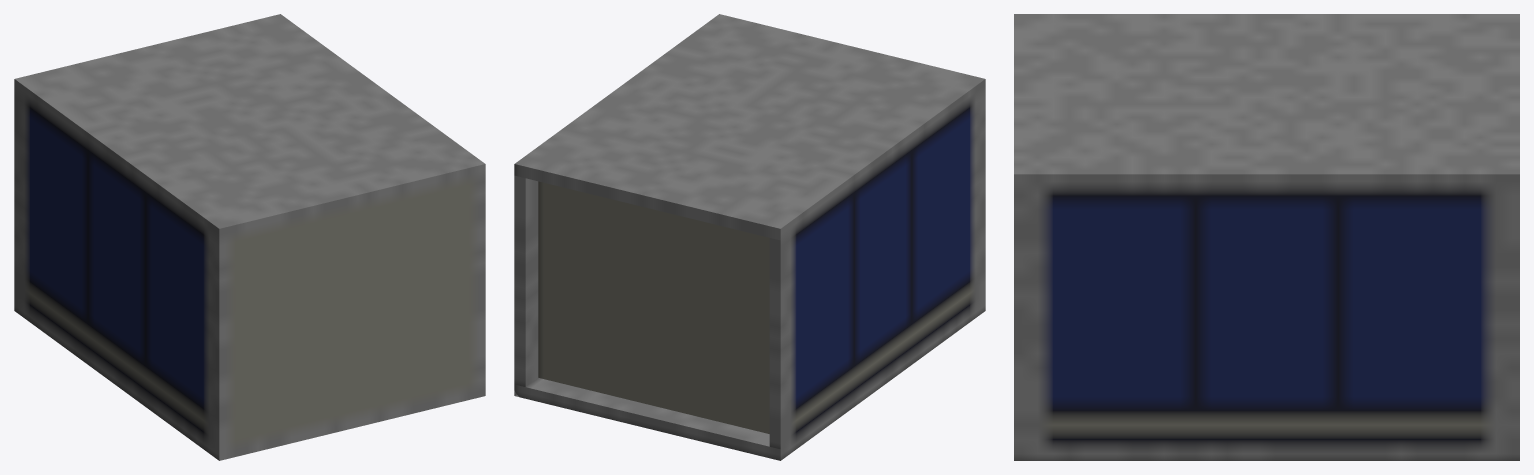
File: most.dae
3 views of the same model, side by side, from view 1: azimuth 30°, elevation 25°; view 2: azimuth 150°, elevation 25°; view 3: azimuth 270°, elevation 25° (orthographic). The views are drawn at different scales.
Visible parts, largest first — view 1: Content; view 2: Content; view 3: Content.
Boxes of the visible parts, x1,y1,x2,y2 form: Content: (14, 14, 485, 460); Content: (514, 14, 985, 460); Content: (1014, 14, 1519, 460).
Bounding box in the file's own units: 24 × 21 × 32.
Materials: 1 (1 with a texture image).
